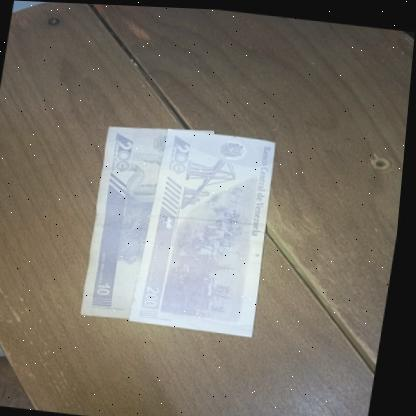ten-back-vef: (83, 117, 173, 321)
two_hundred-back-vef: (133, 124, 286, 335)
